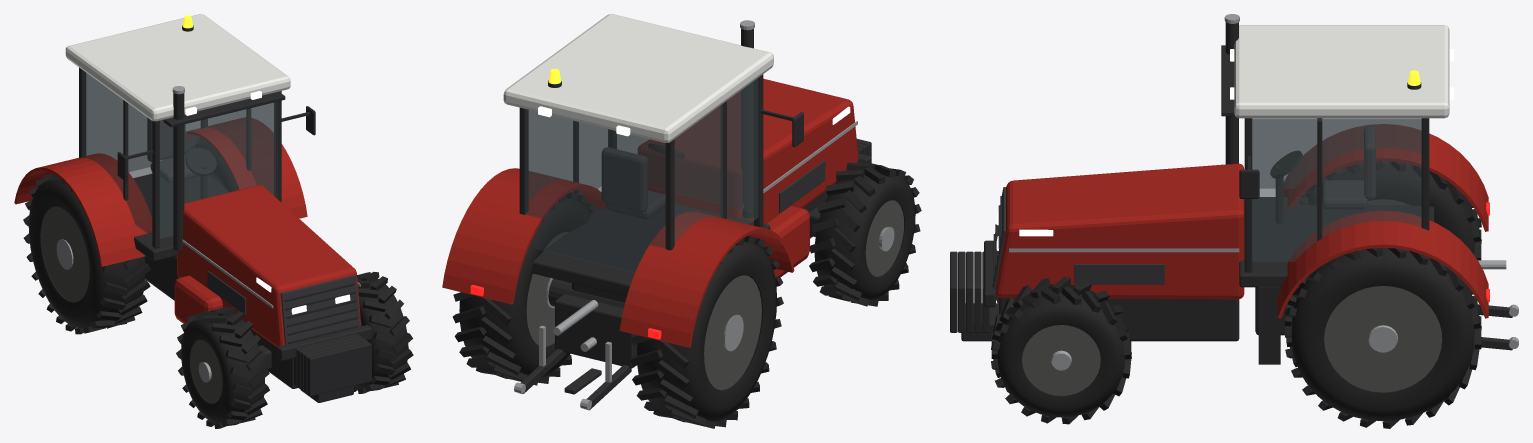
Rendered from tractor_case_magnum_400.glb.
3 renders of one model, left to right at view 1: azimuth 30°, elevation 25°; view 2: azimuth 150°, elevation 25°; view 3: azimuth 270°, elevation 25°, orthographic. The views are drawn at different scales.
Parts seen in each view (by area): view 1: carroceria, vidrios, rueda_td, rueda_dd, rueda_di, rueda_ti; view 2: carroceria, vidrios, rueda_td, rueda_dd, rueda_ti, tripuntal, brazos_tripuntal; view 3: carroceria, rueda_ti, vidrios, rueda_di, rueda_td, brazos_tripuntal.
Boxes of the visible parts, x1,y1,x2,y2 form: carroceria: [14, 14, 371, 402]; vidrios: [82, 70, 277, 238]; rueda_td: [23, 173, 151, 334]; rueda_dd: [176, 306, 269, 428]; rueda_di: [354, 272, 413, 393]; rueda_ti: [185, 137, 237, 192]; carroceria: [442, 14, 871, 347]; vidrios: [525, 78, 758, 272]; rueda_td: [630, 235, 783, 428]; rueda_dd: [809, 160, 921, 306]; rueda_ti: [452, 192, 596, 385]; tripuntal: [555, 294, 637, 394]; brazos_tripuntal: [514, 300, 631, 410]; carroceria: [950, 14, 1488, 364]; rueda_ti: [1284, 247, 1481, 428]; vidrios: [1252, 118, 1421, 261]; rueda_di: [991, 276, 1131, 424]; rueda_td: [1300, 161, 1481, 260]; brazos_tripuntal: [1478, 260, 1518, 350].
Size of the model in its own units: 2.84 by 3.61 by 5.66.
